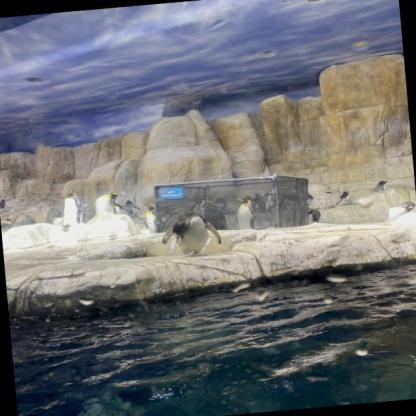penguin: (161, 212, 215, 258), (58, 188, 89, 229), (227, 195, 260, 233), (90, 190, 118, 219), (382, 199, 416, 220), (143, 203, 159, 233), (120, 197, 140, 221), (304, 208, 322, 226), (372, 178, 388, 194), (0, 218, 16, 232), (22, 212, 35, 227), (0, 198, 8, 211), (338, 191, 348, 201)
